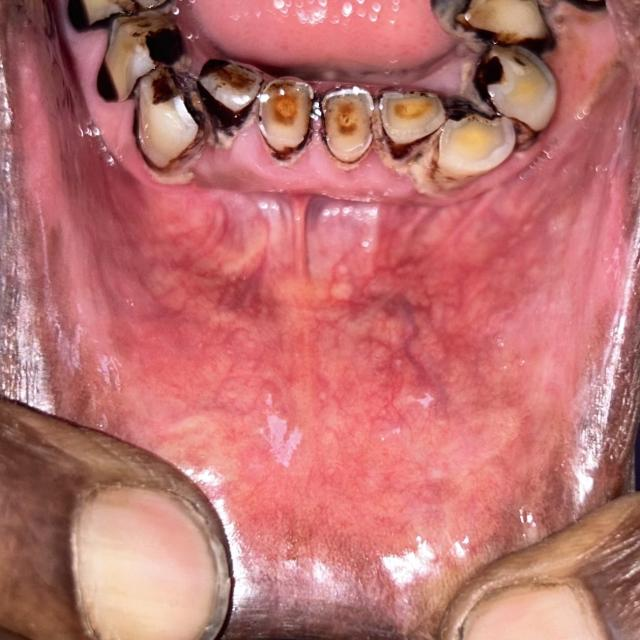processing_area: (0, 0, 639, 613)
